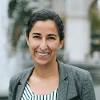face: (32, 32, 58, 60)
